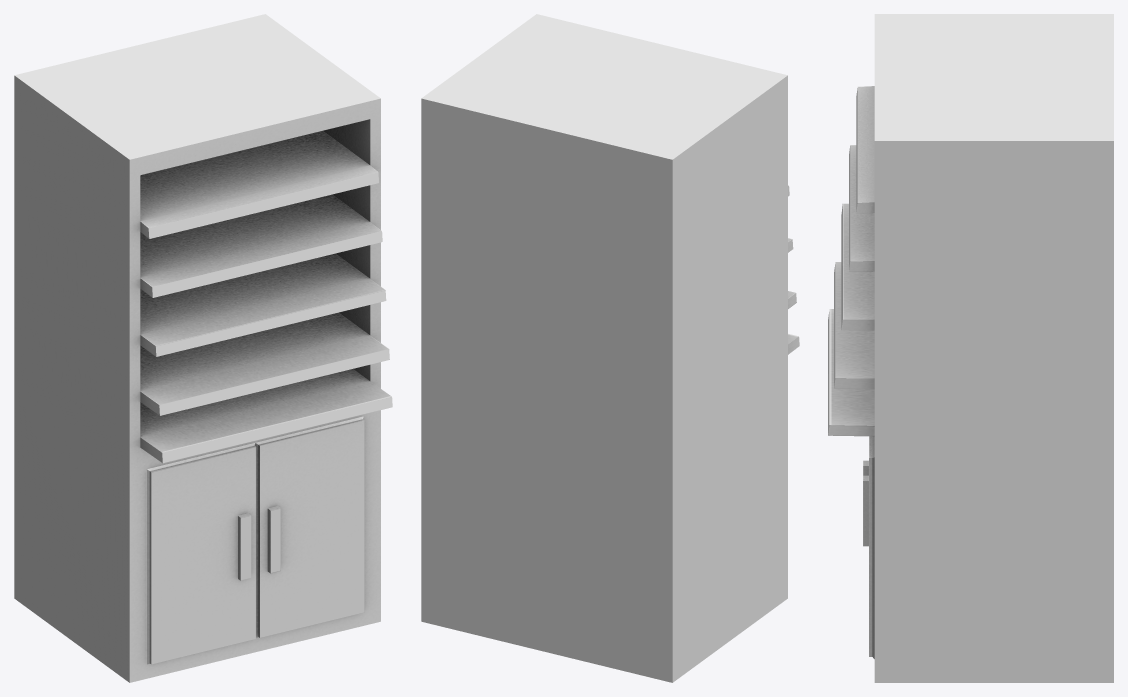
File: FIT_01.fbx
3 views of the same model, side by side, from view 1: azimuth 30°, elevation 25°; view 2: azimuth 150°, elevation 25°; view 3: azimuth 270°, elevation 25° (orthographic). The views are drawn at different scales.
Visible parts, largest first — view 1: Cube; view 2: Cube; view 3: Cube.
Boxes of the visible parts, box(x1,y1,x2,y2) form: Cube: box(14, 14, 392, 682); Cube: box(421, 14, 799, 682); Cube: box(828, 14, 1113, 682).
Bounding box in the file's own units: 251 × 500 × 239.
Materials: 1 (1 with a texture image).
